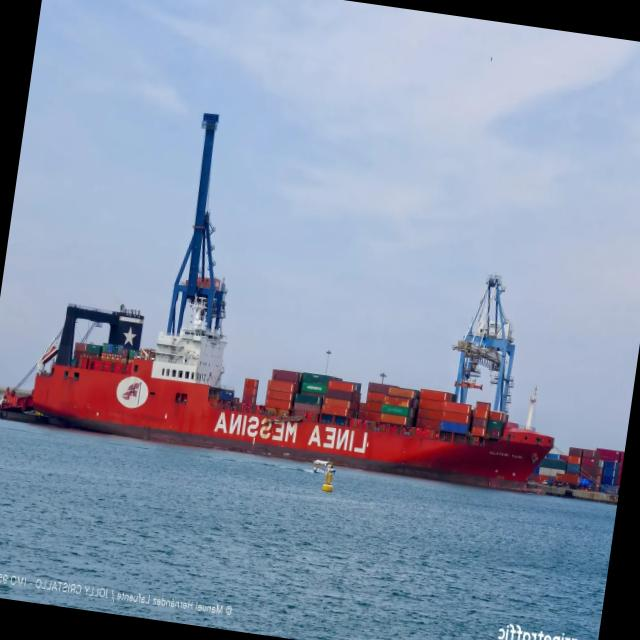Cargo: (33, 302, 552, 488)
